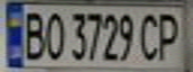2: (103, 9, 121, 62)
3: (66, 8, 87, 61)
7: (84, 9, 103, 61)
9: (118, 9, 139, 61)
B: (18, 7, 48, 62)
C: (136, 10, 163, 62)
O: (42, 8, 66, 61)
P: (154, 9, 184, 62)
